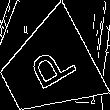P_SW: (19, 40, 77, 97)
